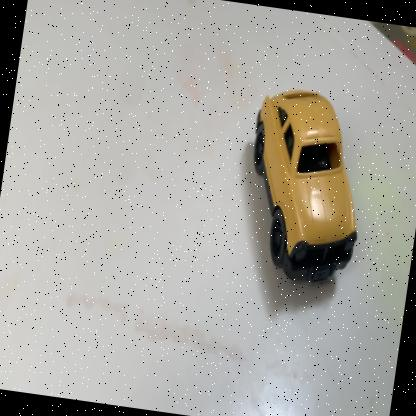yellow mini cooper: (232, 74, 380, 292)
